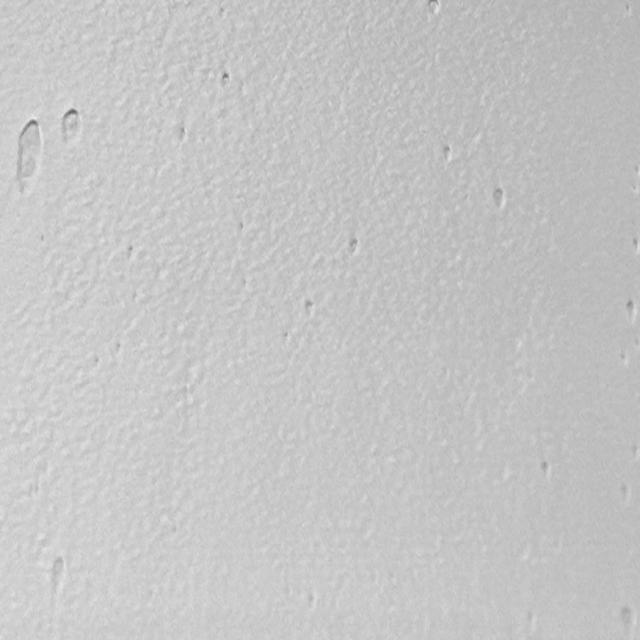pin holes: (11, 112, 51, 196), (58, 106, 85, 148), (47, 557, 68, 593), (616, 603, 638, 636), (488, 184, 508, 212), (623, 299, 640, 324), (439, 143, 456, 167), (618, 483, 635, 507), (302, 297, 318, 321), (538, 460, 555, 482), (426, 0, 444, 19), (346, 236, 363, 256), (220, 72, 234, 91), (630, 237, 639, 253)
